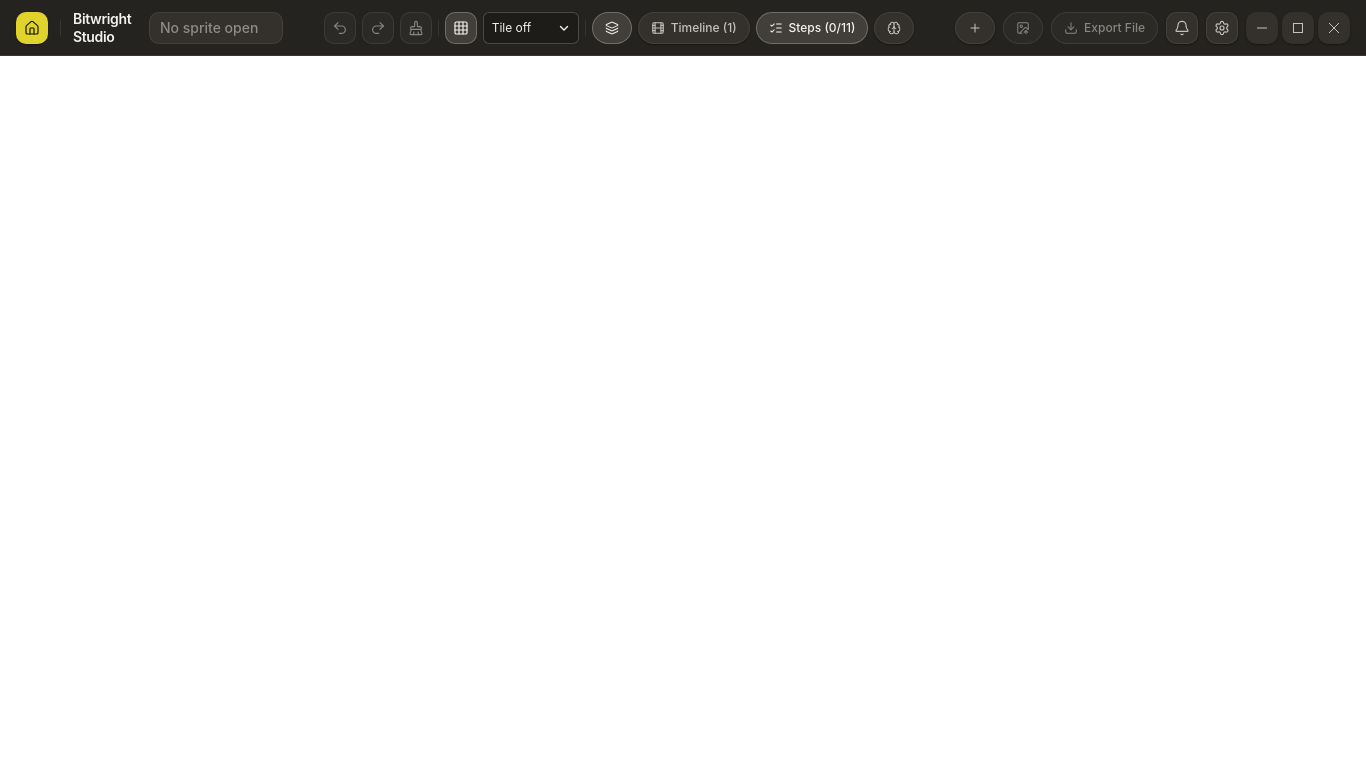
Test: StudioHeader › opens the agent popover and closes it on Escape and outside presses
Click the 2nd button named "Agent" at (894,28), box [874,12,914,44]
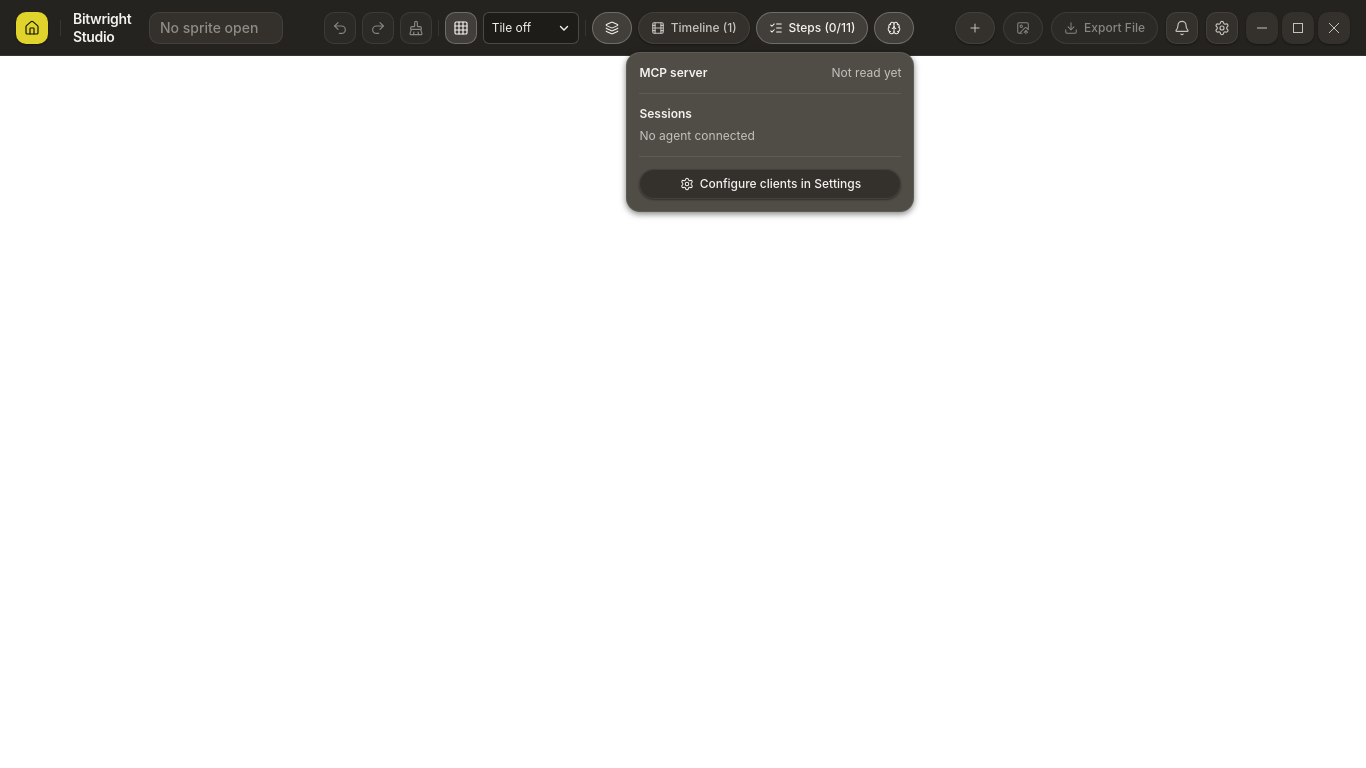
Expected: the 2nd button named "Agent" is expanded, [874,12,914,44]
Expected: the dialog "agent" is shown, [626,52,914,212]
Expected: the text "No agent connected" is shown, [639,128,755,142]
Press Escape
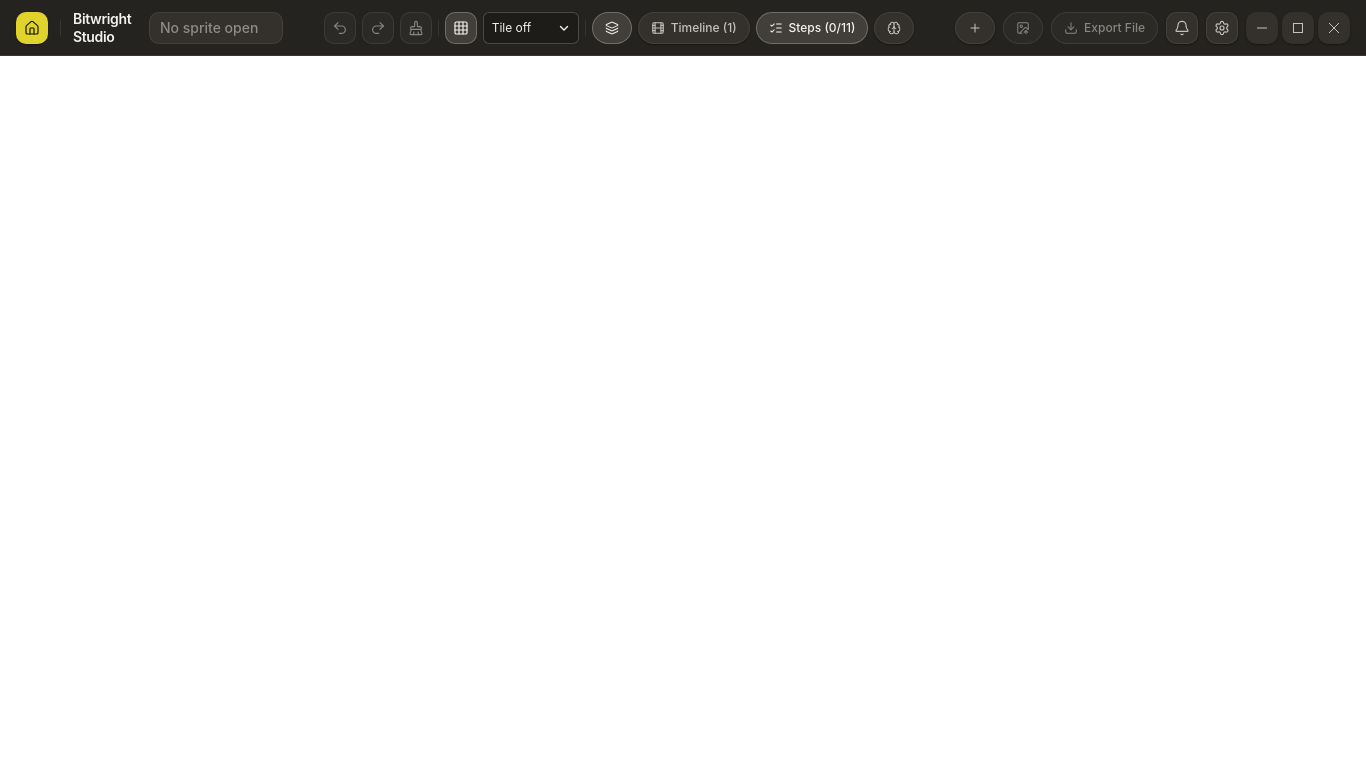
Expected: the 2nd button named "Agent" is collapsed
Click the 2nd button named "Agent" at (894,28), box [874,12,914,44]
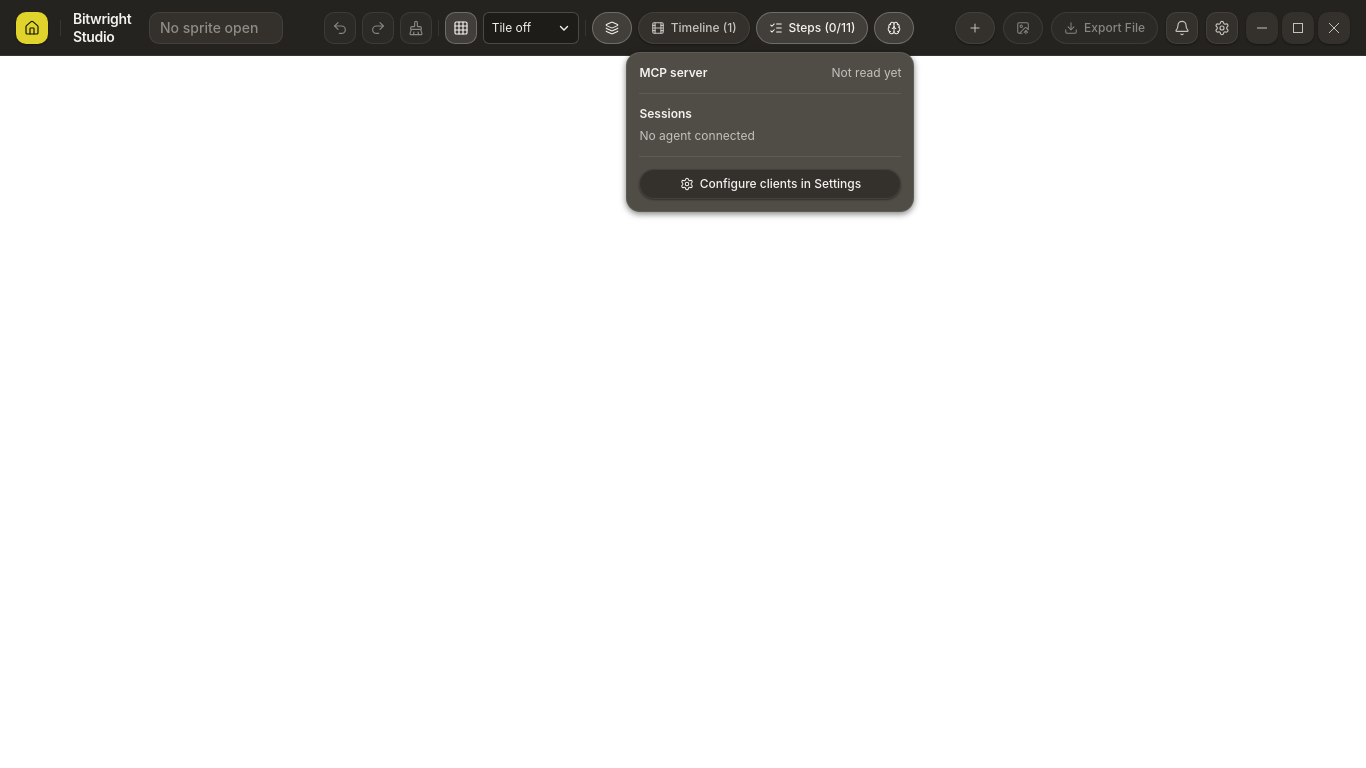
Expected: the 2nd button named "Agent" is expanded, [874,12,914,44]
Press the mouse on the element that starts with "Bitwright Studio" at (683,384), box [0,0,1365,767]
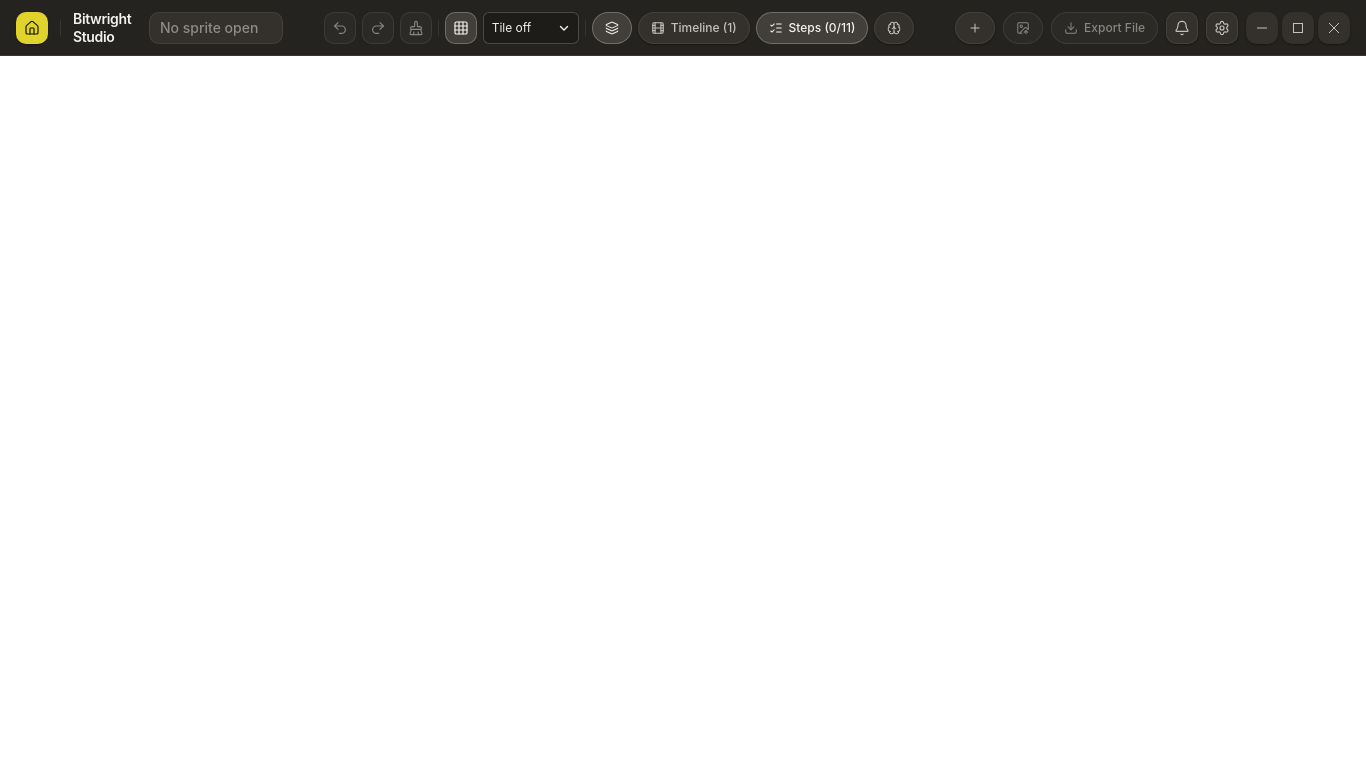
Expected: the 2nd button named "Agent" is collapsed, [874,12,914,44]
